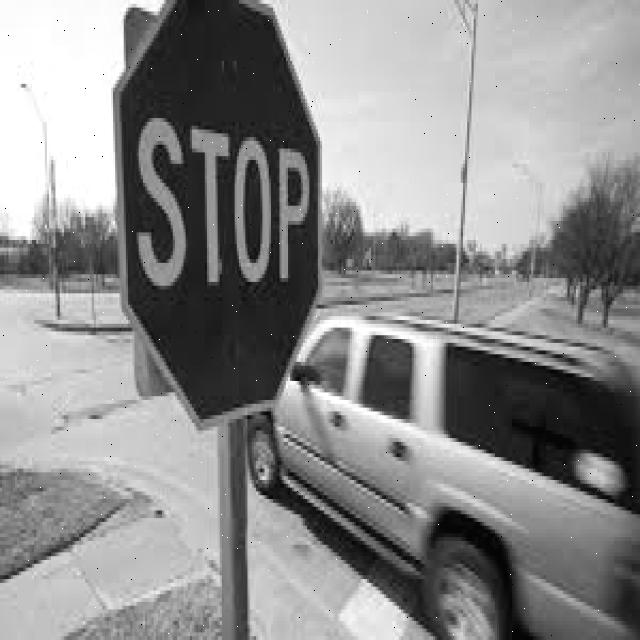stop sign: (115, 2, 319, 422)
